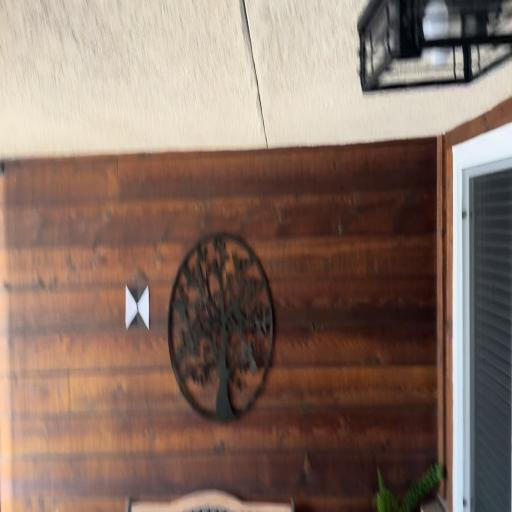target: (125, 287, 149, 327)
